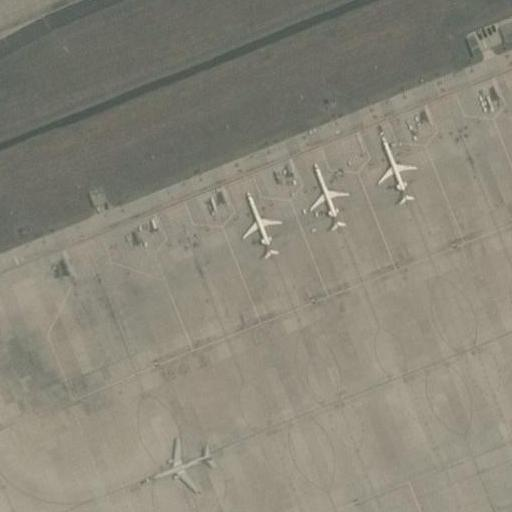Aircraft: (142, 437, 222, 492), (298, 163, 347, 231), (234, 185, 280, 257), (372, 138, 416, 205)
